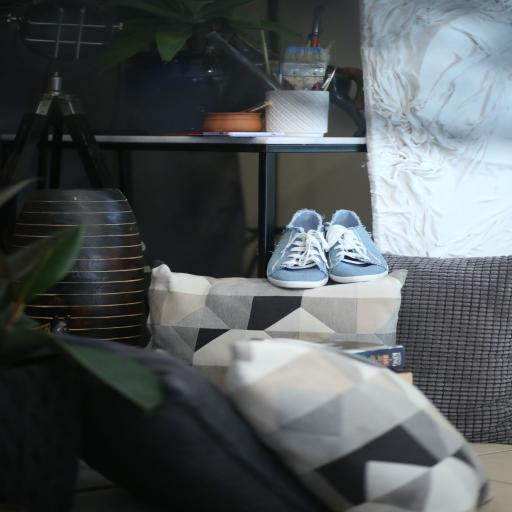shoe: (268, 210, 328, 288), (325, 210, 388, 283)
